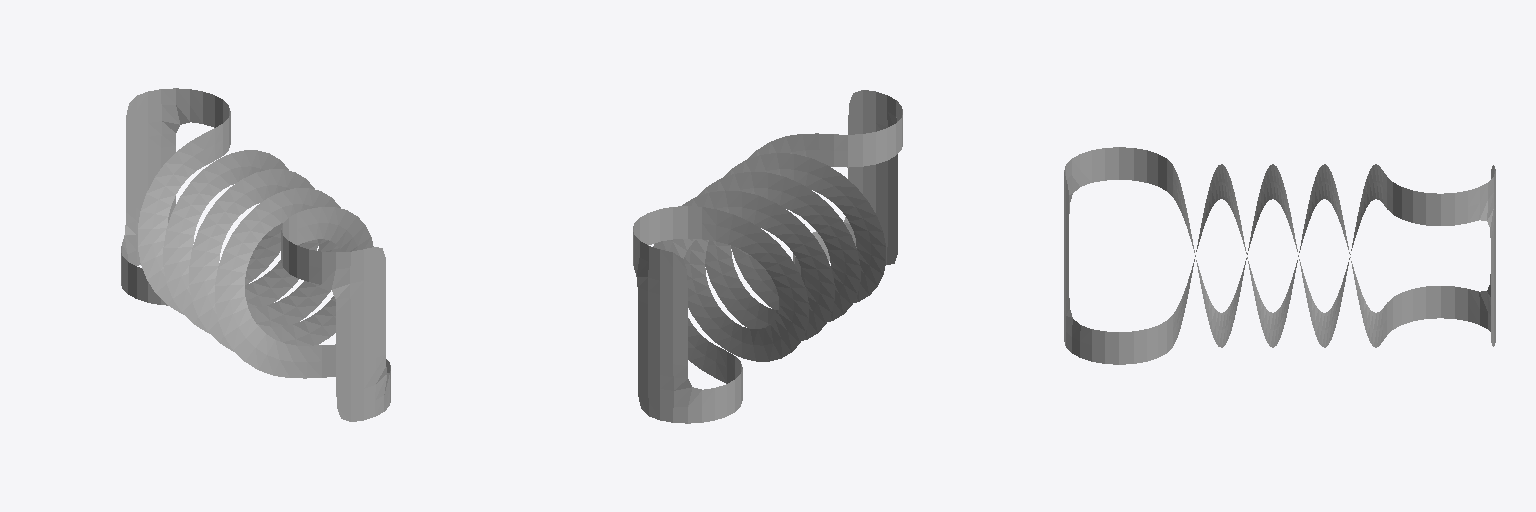
Rendered from lampD-sub1.obj.
3 renders of one model, left to right at view 1: azimuth 30°, elevation 25°; view 2: azimuth 150°, elevation 25°; view 3: azimuth 270°, elevation 25°, orthographic.
Parts seen in each view (by area): view 1: Plane.005_Plane.003; view 2: Plane.005_Plane.003; view 3: Plane.005_Plane.003.
Part boxes in pixels (bbox=[...]): Plane.005_Plane.003: bbox=[121, 88, 390, 421]; Plane.005_Plane.003: bbox=[633, 90, 902, 423]; Plane.005_Plane.003: bbox=[1064, 147, 1495, 364].
Bounding box in the file's own units: 4.46 × 4.58 × 10.46.